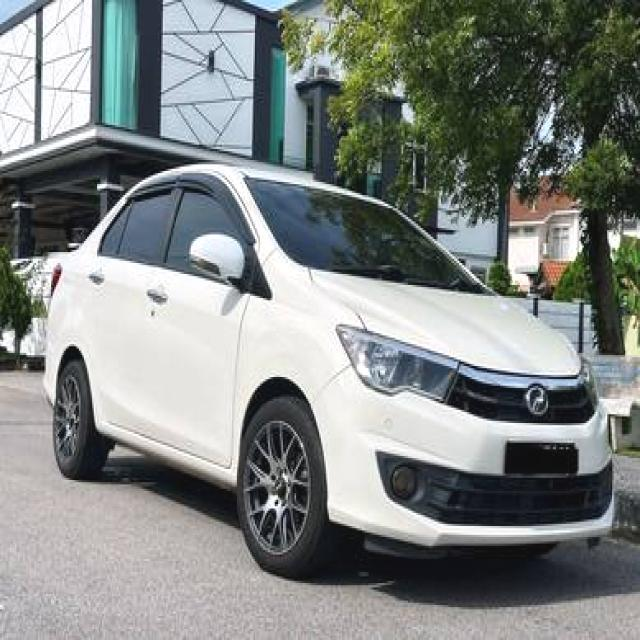PeroduaBezza: (40, 160, 616, 579)
